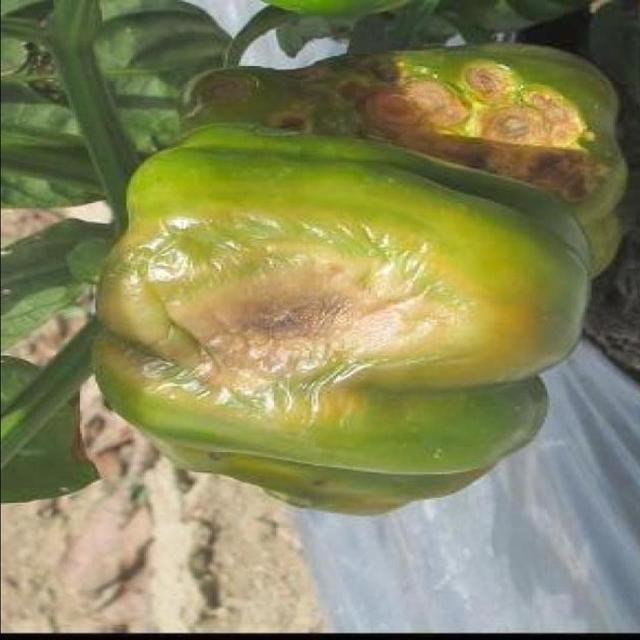Sunscald Fruit: (56, 127, 339, 292)
